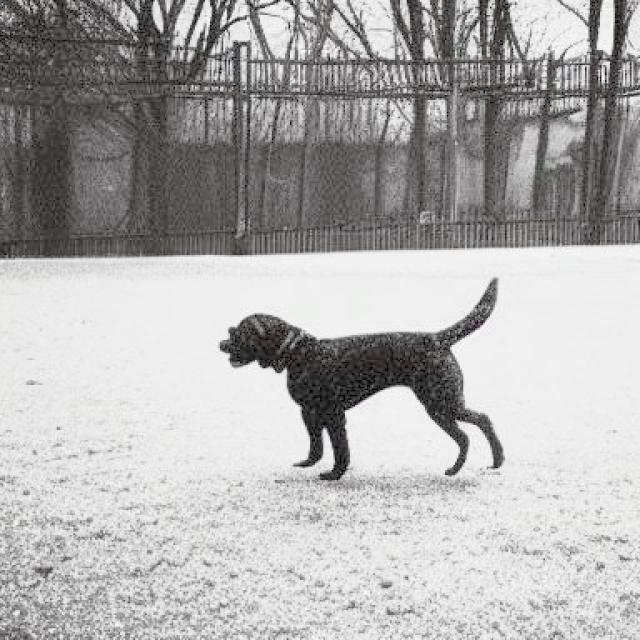Dog: (220, 277, 506, 481)
